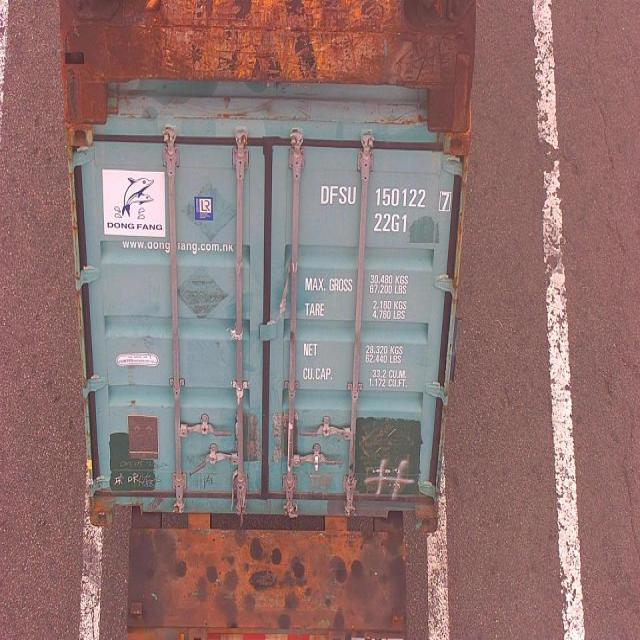ISO: (374, 214, 412, 234)
container_number: (317, 184, 448, 210)
